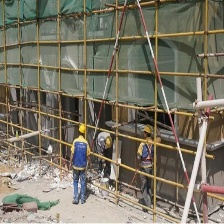helmet: (143, 125, 153, 141), (78, 123, 88, 137)
no-vest: (71, 136, 90, 173)
person: (70, 122, 91, 206), (137, 125, 156, 213), (97, 133, 112, 160)
